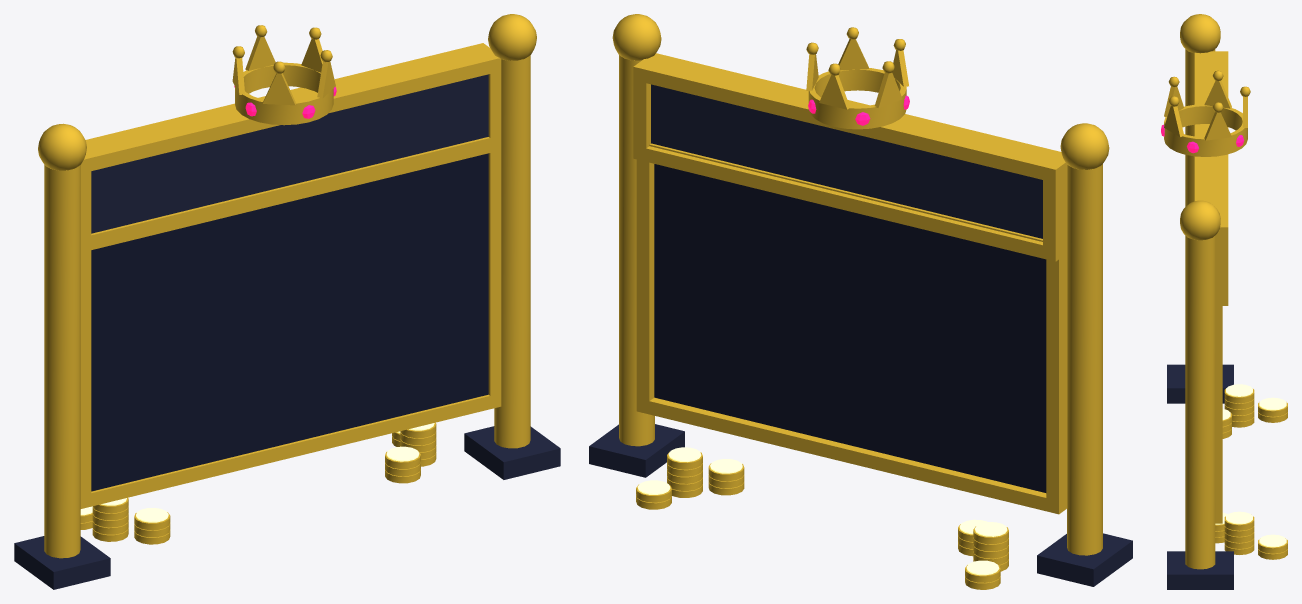
The model's file is Hub_Leaderboard.glb.
The picture shows the model from 3 angles, left to right: view 1: azimuth 30°, elevation 25°; view 2: azimuth 150°, elevation 25°; view 3: azimuth 270°, elevation 25°; orthographic projection. The views are drawn at different scales.
Visible parts, largest first — view 1: Screen, Frame, Posts, Header, Coins, Crown, Feet, CoinCaps; view 2: Screen, Frame, Header, Posts, Coins, Crown, Feet, CoinCaps; view 3: Posts, Frame, Coins, Crown, Feet, CoinCaps, CrownGems.
Part boxes in pixels (left/top/right/bottom): Screen: left=91, top=153, right=488, bottom=491; Frame: left=80, top=43, right=501, bottom=508; Posts: left=44, top=55, right=530, bottom=558; Header: left=91, top=74, right=488, bottom=233; Coins: left=38, top=14, right=536, bottom=544; Crown: left=232, top=25, right=335, bottom=125; Feet: left=14, top=426, right=560, bottom=589; CoinCaps: left=80, top=423, right=434, bottom=522; Screen: left=654, top=164, right=1046, bottom=492; Frame: left=633, top=53, right=1067, bottom=514; Header: left=651, top=84, right=1042, bottom=238; Posts: left=619, top=55, right=1102, bottom=555; Coins: left=612, top=14, right=1109, bottom=589; Crown: left=806, top=27, right=908, bottom=129; Feet: left=589, top=424, right=1132, bottom=586; CoinCaps: left=637, top=447, right=1007, bottom=575; Posts: left=1185, top=49, right=1215, bottom=569; Frame: left=1194, top=51, right=1228, bottom=523; Coins: left=1180, top=14, right=1287, bottom=559; Crown: left=1164, top=70, right=1250, bottom=156; Feet: left=1167, top=364, right=1233, bottom=589; CoinCaps: left=1215, top=384, right=1286, bottom=547; CrownGems: left=1161, top=124, right=1244, bottom=153.
Bounding box in the file's own units: 17.8 × 15.73 × 4.55.
